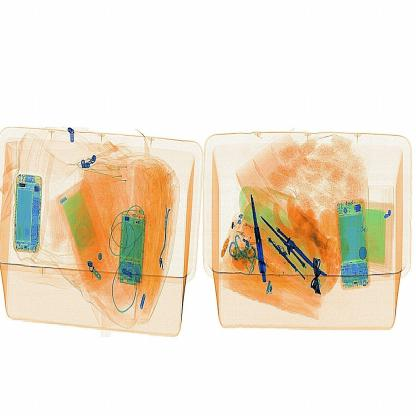gun: (244, 186, 279, 291)
